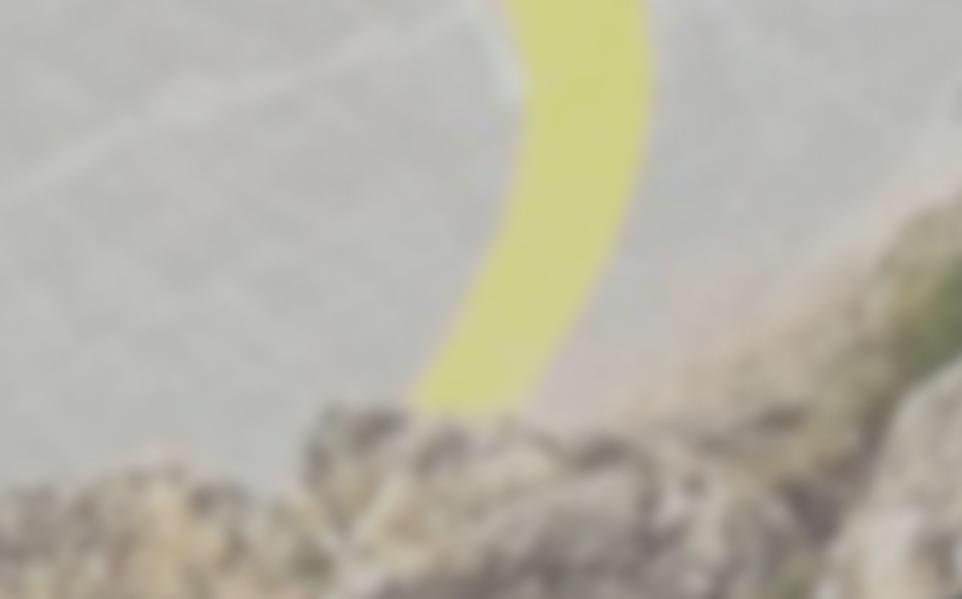Apron: (1, 1, 645, 528)
